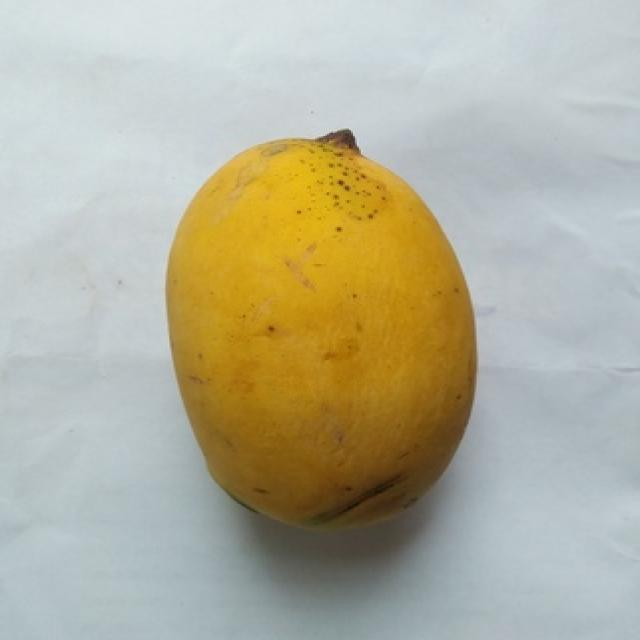Mango: (167, 133, 475, 523)
